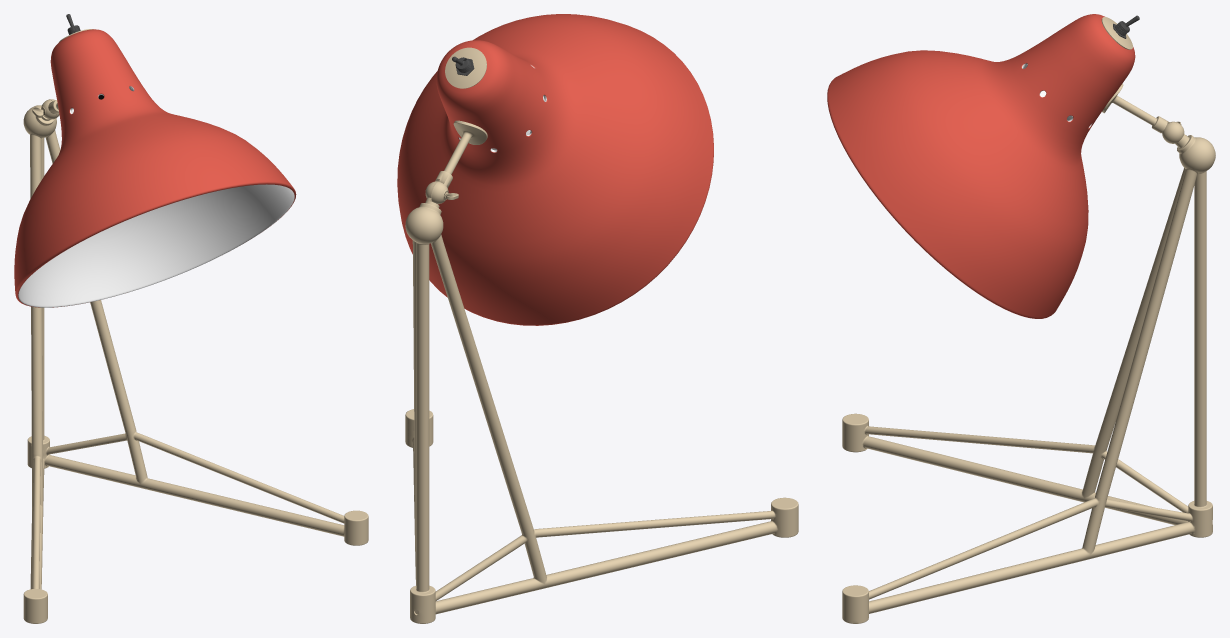
File: Lamp01.glb
3 views of the same model, side by side, from view 1: azimuth 30°, elevation 25°; view 2: azimuth 150°, elevation 25°; view 3: azimuth 270°, elevation 25° (orthographic). The views are drawn at different scales.
Visible parts, largest first — view 1: Delightfull_Diana_table_lamp_mat(1); view 2: Delightfull_Diana_table_lamp_mat(1); view 3: Delightfull_Diana_table_lamp_mat(1).
Boxes of the visible parts, left/top/right/bottom form: Delightfull_Diana_table_lamp_mat(1): left=14, top=14, right=368, bottom=623; Delightfull_Diana_table_lamp_mat(1): left=397, top=14, right=798, bottom=623; Delightfull_Diana_table_lamp_mat(1): left=827, top=14, right=1215, bottom=623.
Bounding box in the file's own units: 0.8651 × 1.14 × 0.7769.
